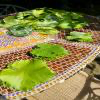grape leaf: (2, 60, 56, 91), (32, 42, 71, 58), (67, 32, 93, 41), (58, 20, 75, 30), (20, 18, 41, 25), (43, 14, 60, 22), (2, 16, 16, 23)
